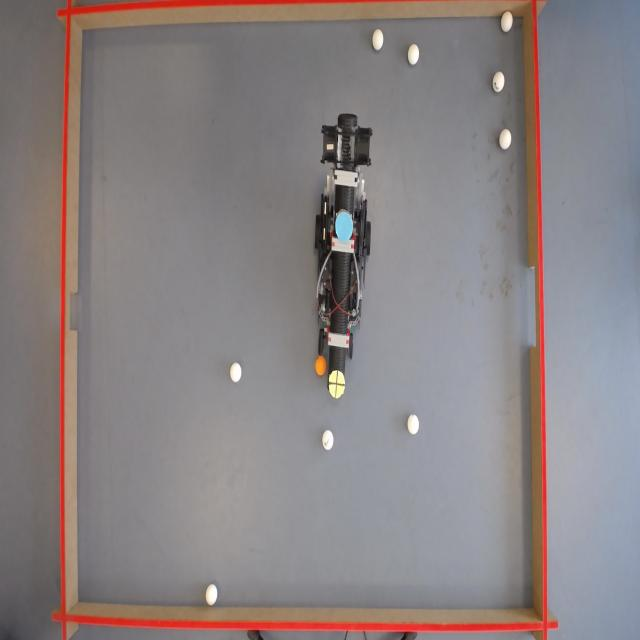orange: (316, 355, 326, 376)
robot: (316, 119, 377, 395)
robot-front: (329, 371, 347, 402)
robot-rear: (336, 211, 356, 241)
white: (205, 584, 219, 607), (408, 45, 422, 67), (373, 29, 386, 52), (500, 10, 513, 32), (499, 130, 512, 152), (493, 71, 506, 93), (408, 415, 422, 435), (231, 361, 243, 382)
